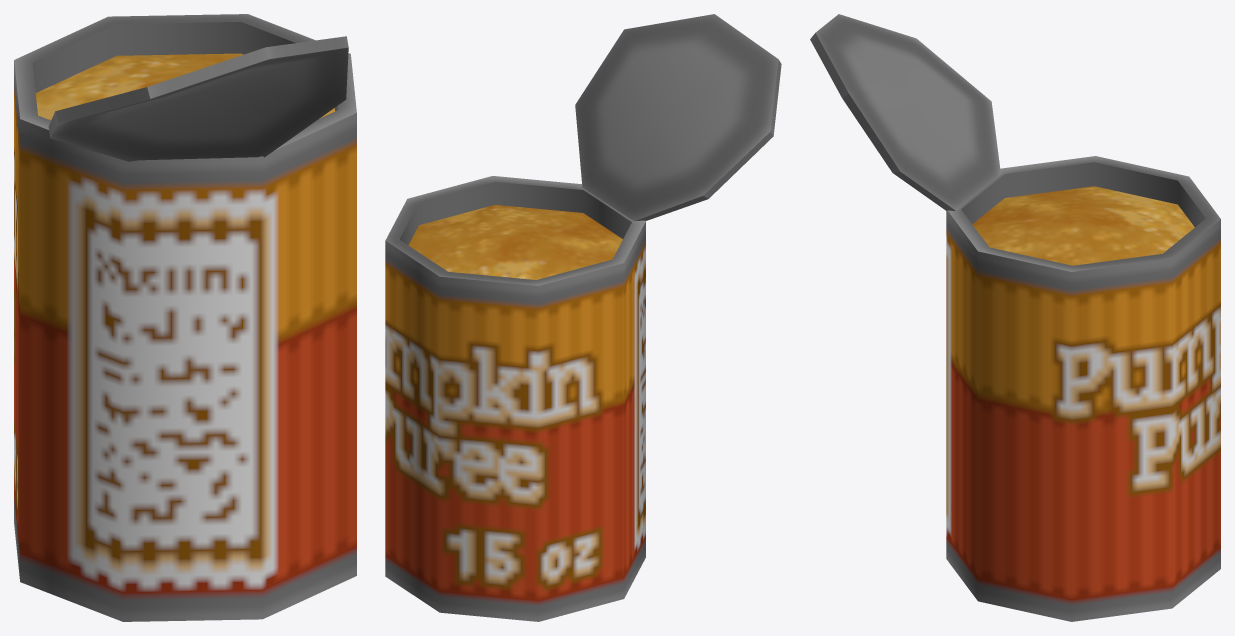
The model's file is VFX_CanOpen.fbx.
3 renders of one model, left to right at view 1: azimuth 30°, elevation 25°; view 2: azimuth 150°, elevation 25°; view 3: azimuth 270°, elevation 25°, orthographic. The views are drawn at different scales.
Parts seen in each view (by area): view 1: CanOpen_Full; view 2: CanOpen_Full; view 3: CanOpen_Full.
Part boxes in pixels (x1,y1,x2,y2): CanOpen_Full: [14, 14, 356, 621]; CanOpen_Full: [385, 14, 781, 621]; CanOpen_Full: [810, 14, 1220, 621].
Bounding box in the file's own units: 0.0849 × 0.1335 × 0.1003.
